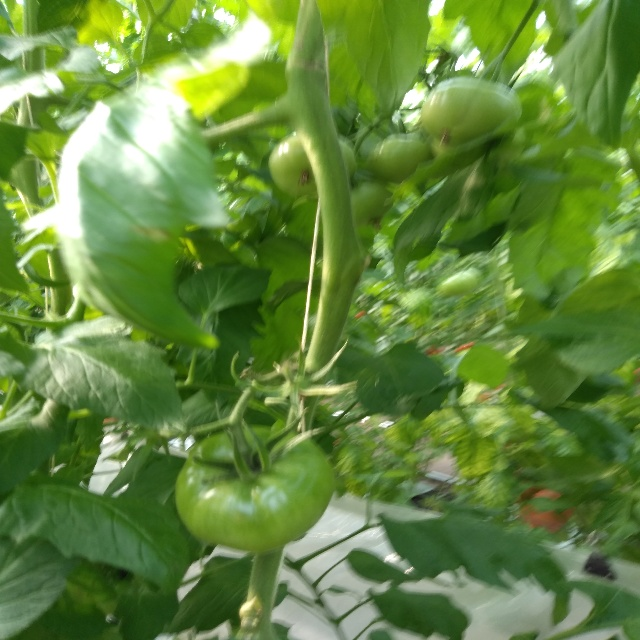b_green: (174, 425, 335, 551), (420, 77, 521, 148), (268, 131, 358, 199), (370, 134, 430, 185), (349, 181, 392, 227)
